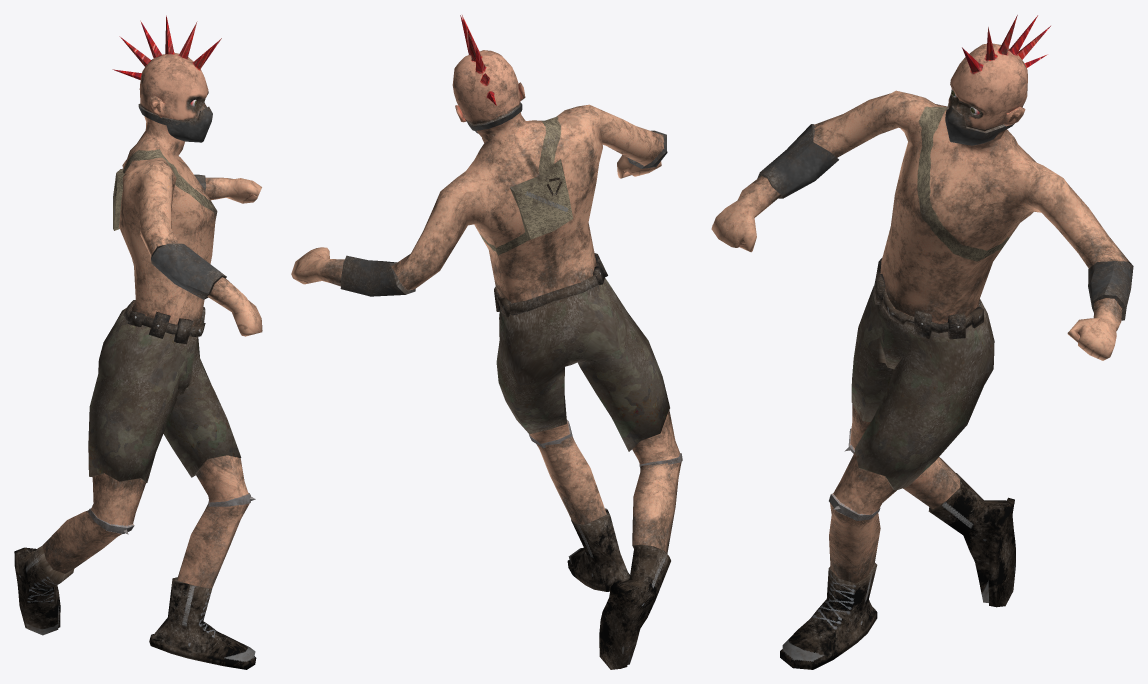
File: Anim_ataque_f1_npc2.0016.obj
3 renders of one model, left to right at view 1: azimuth 30°, elevation 25°; view 2: azimuth 150°, elevation 25°; view 3: azimuth 270°, elevation 25°, orthographic. The views are drawn at different scales.
Parts seen in each view (by area): view 1: polySurface1; view 2: polySurface1; view 3: polySurface1.
Boxes of the visible parts, x1=… form: polySurface1: x1=14, y1=15, x2=262, y2=669; polySurface1: x1=291, y1=15, x2=682, y2=669; polySurface1: x1=711, y1=15, x2=1133, y2=669.
Size of the model in its own units: 4.99 by 9.63 by 5.54.
